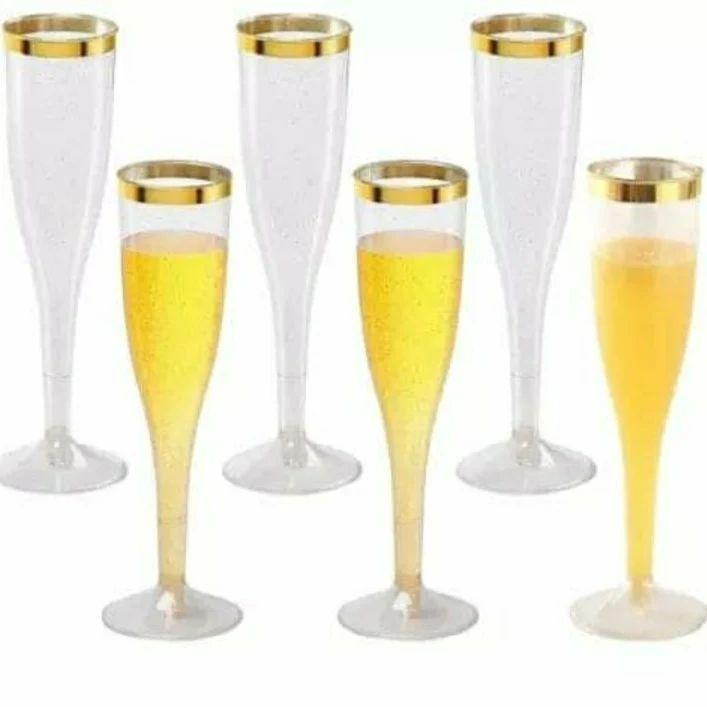glass-wine: (81, 156, 256, 642), (214, 8, 369, 502), (453, 6, 602, 508), (564, 146, 707, 649), (344, 156, 485, 647), (0, 10, 124, 502)
